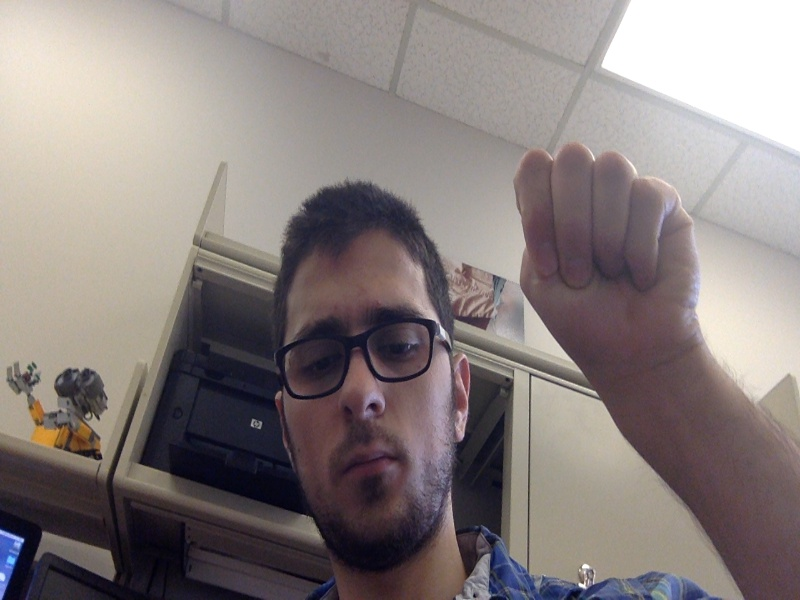0-hand: (513, 143, 700, 369)
